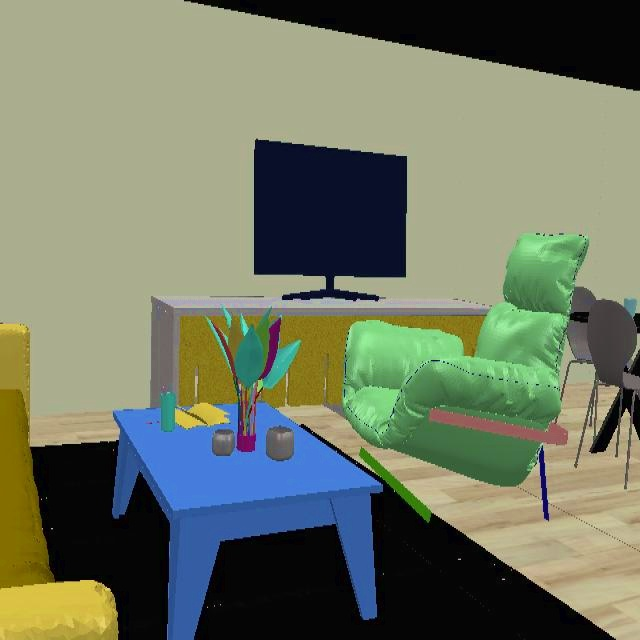chair: (563, 288, 640, 453)
monitor: (253, 140, 409, 285)
sofa: (342, 232, 590, 488), (0, 324, 118, 640)
table: (113, 405, 384, 640)
